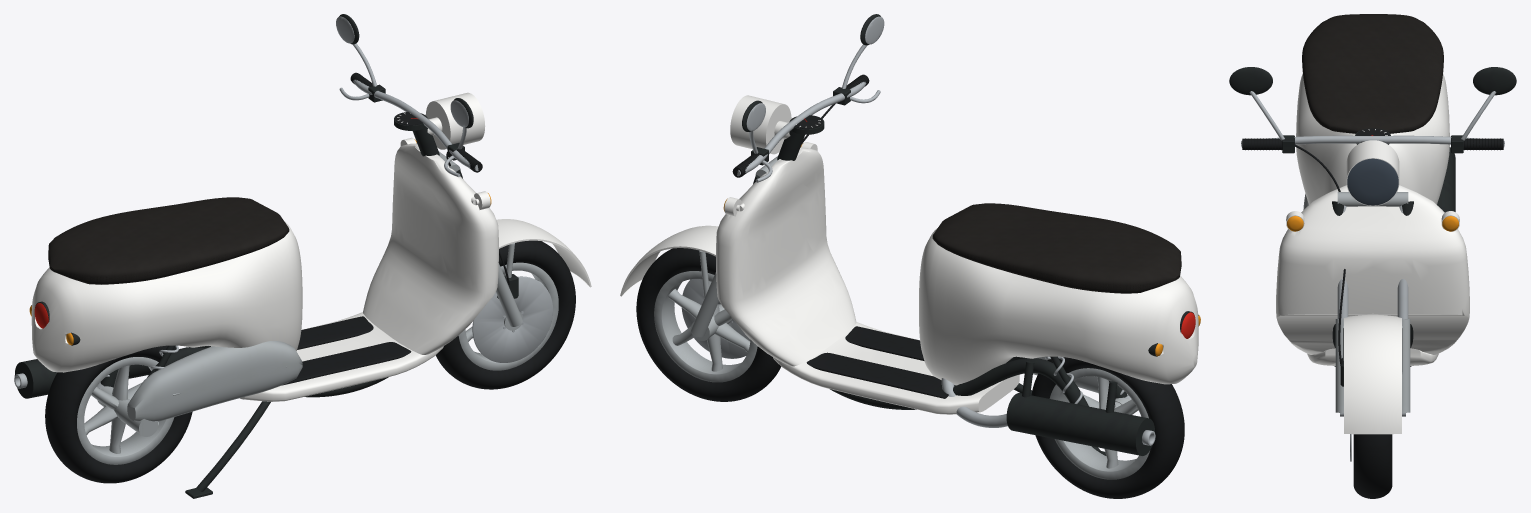
File: scooter.glb
3 renders of one model, left to right at view 1: azimuth 30°, elevation 25°; view 2: azimuth 150°, elevation 25°; view 3: azimuth 270°, elevation 25°, orthographic. The views are drawn at different scales.
Visible parts, largest first — view 1: Scooter closed step-through footboard, Scooter cast automatic transmission case, Scooter front brake hose, Scooter shaped two-person saddle, Scooter brake lever 1, Scooter control switch housing 1; view 2: Scooter closed step-through footboard, Scooter front brake hose, Scooter shaped two-person saddle, Scooter control switch housing 1, Scooter cast automatic transmission case, Scooter brake lever 1; view 3: Scooter closed step-through footboard, Scooter shaped two-person saddle, Scooter front brake hose, Scooter control switch housing 1, Scooter brake lever 1, Scooter cast automatic transmission case, Scooter headlamp finite curved optic, Scooter front indicator 1 finite curved optic.
Boxes of the visible parts, x1,y1,x2,y2 form: Scooter closed step-through footboard: (31,92,591,401); Scooter cast automatic transmission case: (77,143,558,464); Scooter front brake hose: (45,72,575,483); Scooter shaped two-person saddle: (48,197,289,284); Scooter brake lever 1: (14,16,552,389); Scooter control switch housing 1: (14,14,518,498); Scooter closed step-through footboard: (620,95,1198,414); Scooter front brake hose: (636,74,1184,498); Scooter shaped two-person saddle: (932,203,1181,293); Scooter control switch housing 1: (742,14,1199,455); Scooter cast automatic transmission case: (654,147,1149,479); Scooter brake lever 1: (681,16,1155,445); Scooter closed step-through footboard: (1276,73,1469,434); Scooter shaped two-person saddle: (1302,14,1443,133); Scooter front brake hose: (1242,138,1503,498); Scooter control switch housing 1: (1229,67,1516,386); Scooter brake lever 1: (1241,91,1504,461); Scooter cast automatic transmission case: (1303,192,1410,412); Scooter headlamp finite curved optic: (1347,158,1398,205); Scooter front indicator 1 finite curved optic: (1287,216,1458,231).
Size of the model in its own units: 1.9 by 1.17 by 0.814.
13 materials, 8 textured.
